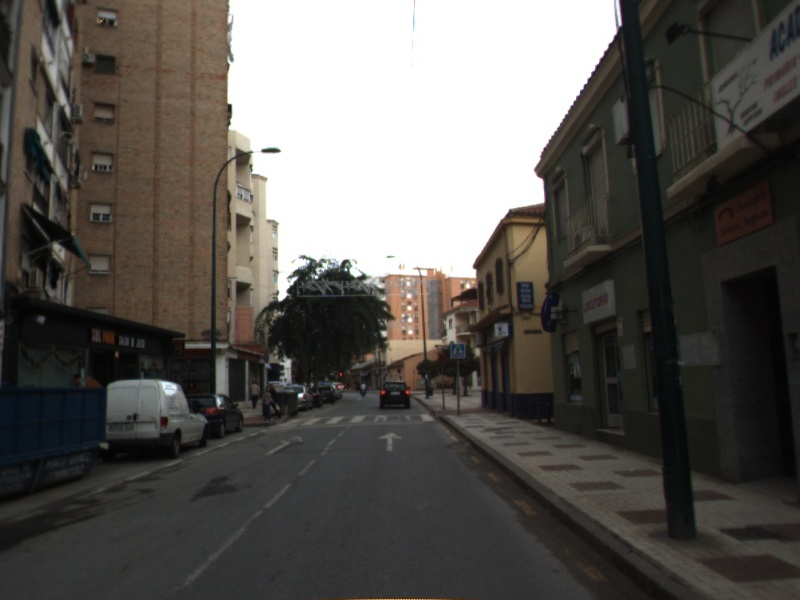STRAIGHT: (262, 434, 306, 457), (375, 431, 405, 453)
